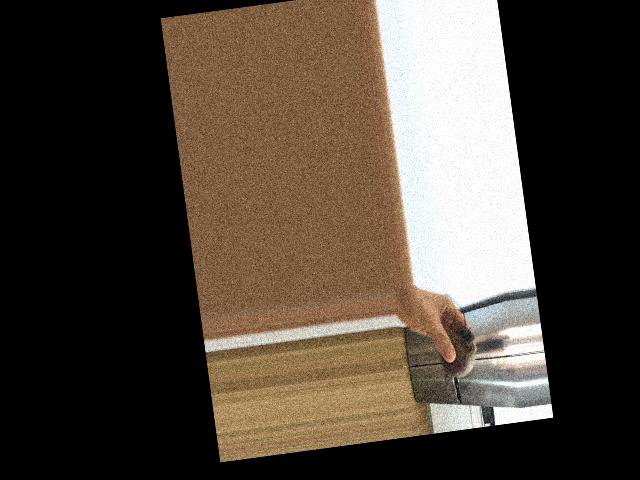beet: (431, 290, 480, 387)
